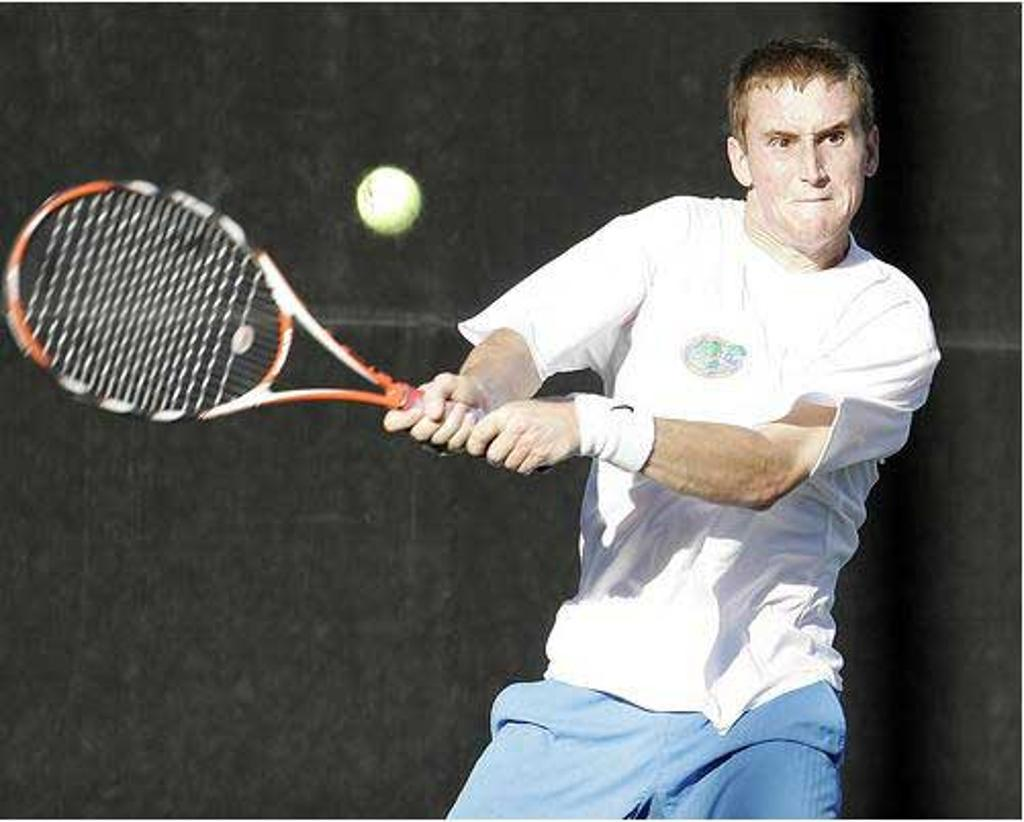face: (751, 89, 863, 245)
